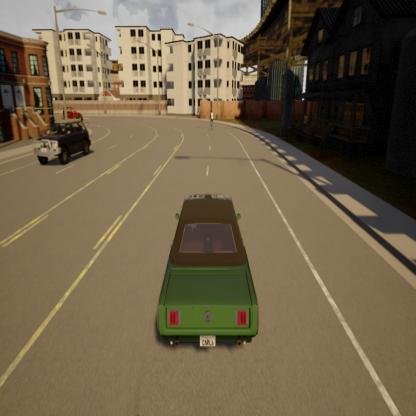Cars: (148, 176, 268, 368), (34, 116, 99, 174), (60, 103, 87, 125)
